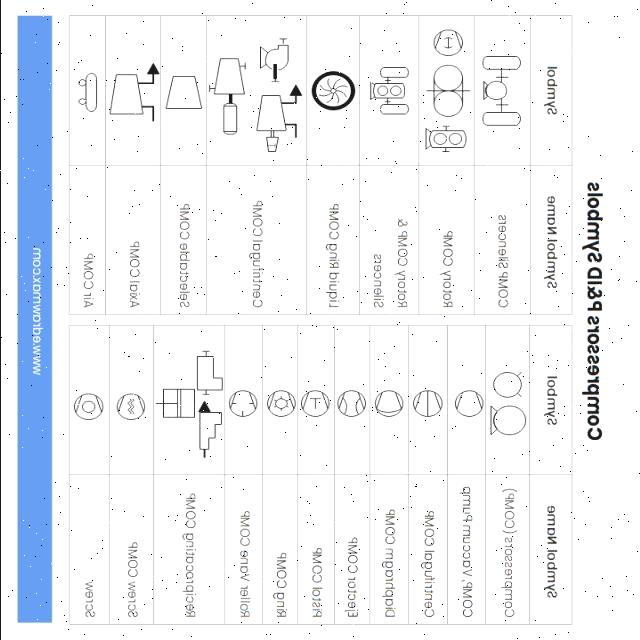Axical COMP: (107, 54, 158, 133)
Centrifugal Compressor: (206, 50, 248, 144), (255, 86, 302, 156), (256, 33, 294, 80)
